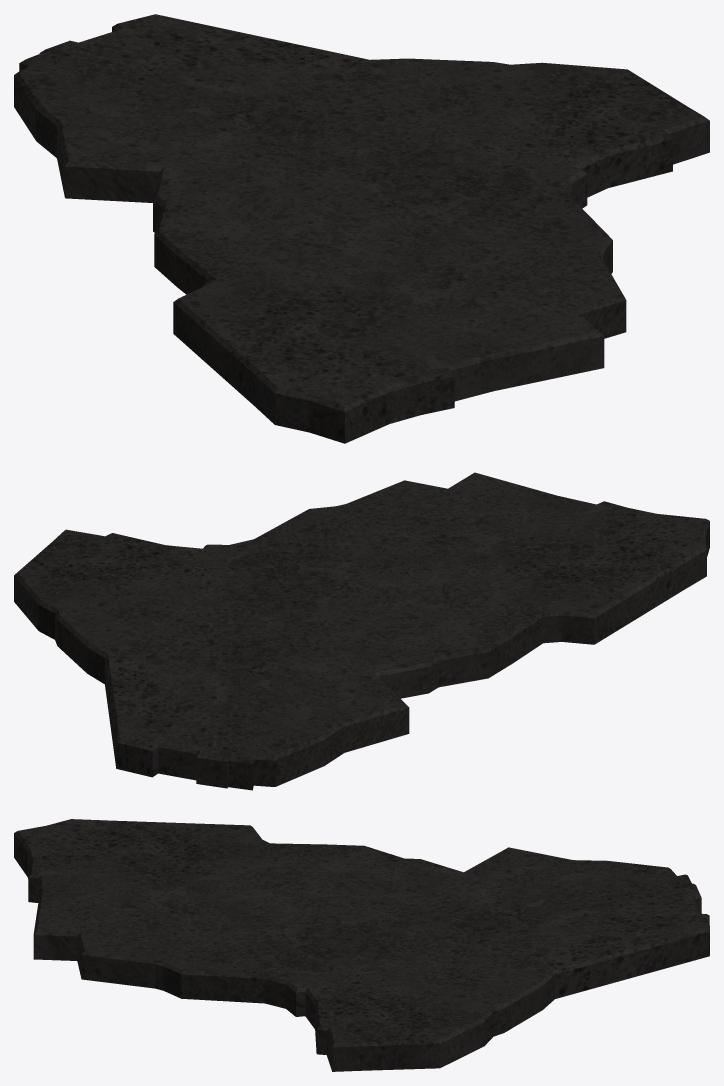
File: FloorDmg01.fbx
3 views of the same model, one above another, from view 1: azimuth 30°, elevation 25°; view 2: azimuth 150°, elevation 25°; view 3: azimuth 270°, elevation 25° (orthographic). The views are drawn at different scales.
Parts seen in each view (by area): view 1: SM_ENV_NATURE_Cave_Floor_Dmg_01.mo; view 2: SM_ENV_NATURE_Cave_Floor_Dmg_01.mo; view 3: SM_ENV_NATURE_Cave_Floor_Dmg_01.mo.
Boxes of the visible parts, x1,y1,x2,y2 form: SM_ENV_NATURE_Cave_Floor_Dmg_01.mo: [14, 14, 709, 443]; SM_ENV_NATURE_Cave_Floor_Dmg_01.mo: [14, 472, 709, 790]; SM_ENV_NATURE_Cave_Floor_Dmg_01.mo: [14, 819, 709, 1071].
Bounding box in the file's own units: 533 × 30 × 691.
Materials: 1 (1 with a texture image).
